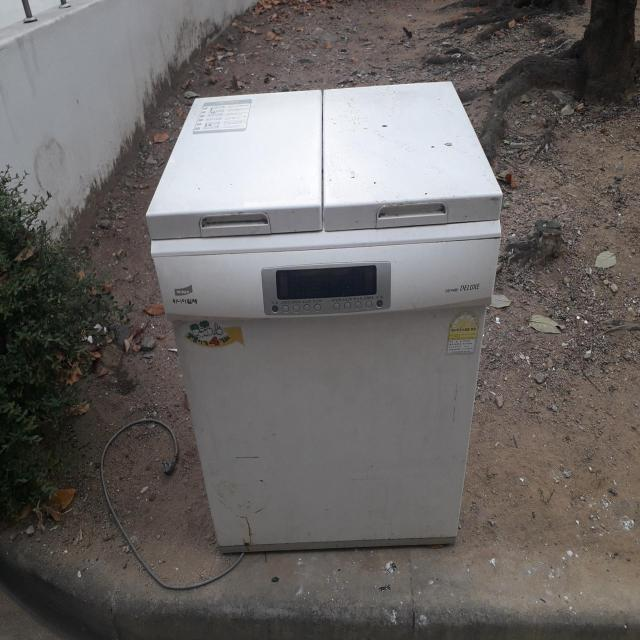refrigerator: (144, 80, 504, 555)
